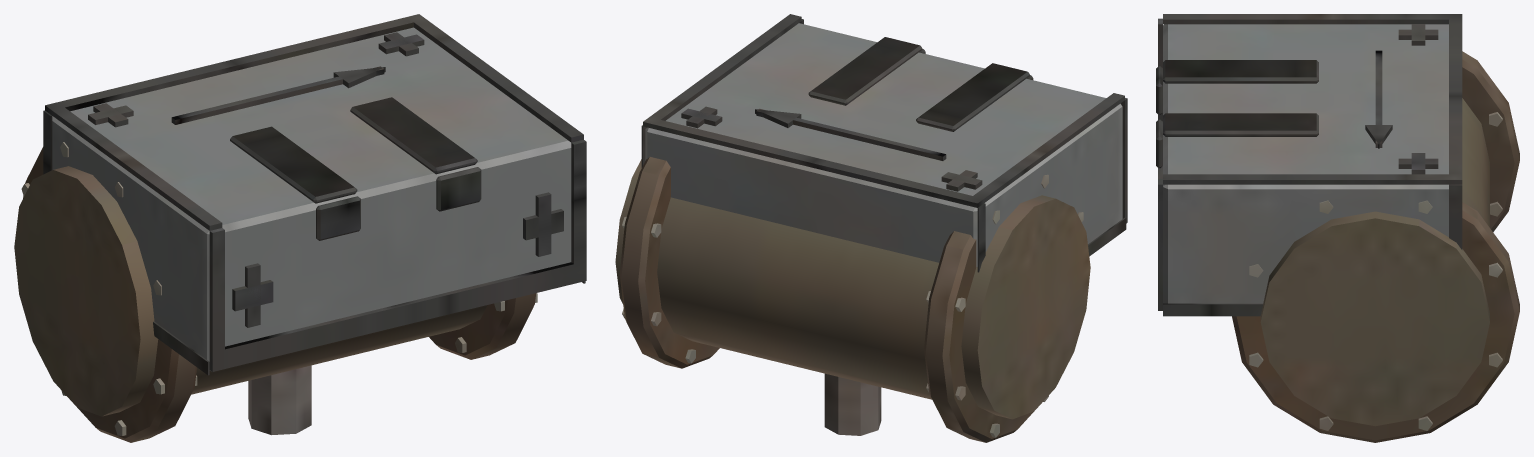
Rendered from one-way-valve-east.glb.
3 views of the same model, side by side, from view 1: azimuth 30°, elevation 25°; view 2: azimuth 150°, elevation 25°; view 3: azimuth 270°, elevation 25° (orthographic). The views are drawn at different scales.
Parts seen in each view (by area): view 1: body; view 2: body; view 3: body.
Part boxes in pixels (<box>): body: <box>14,14,586,442</box>; body: <box>615,14,1127,442</box>; body: <box>1156,14,1519,442</box>.
Size of the model in its own units: 1 by 0.776 by 0.856.
Materials: 1 (1 with a texture image).
